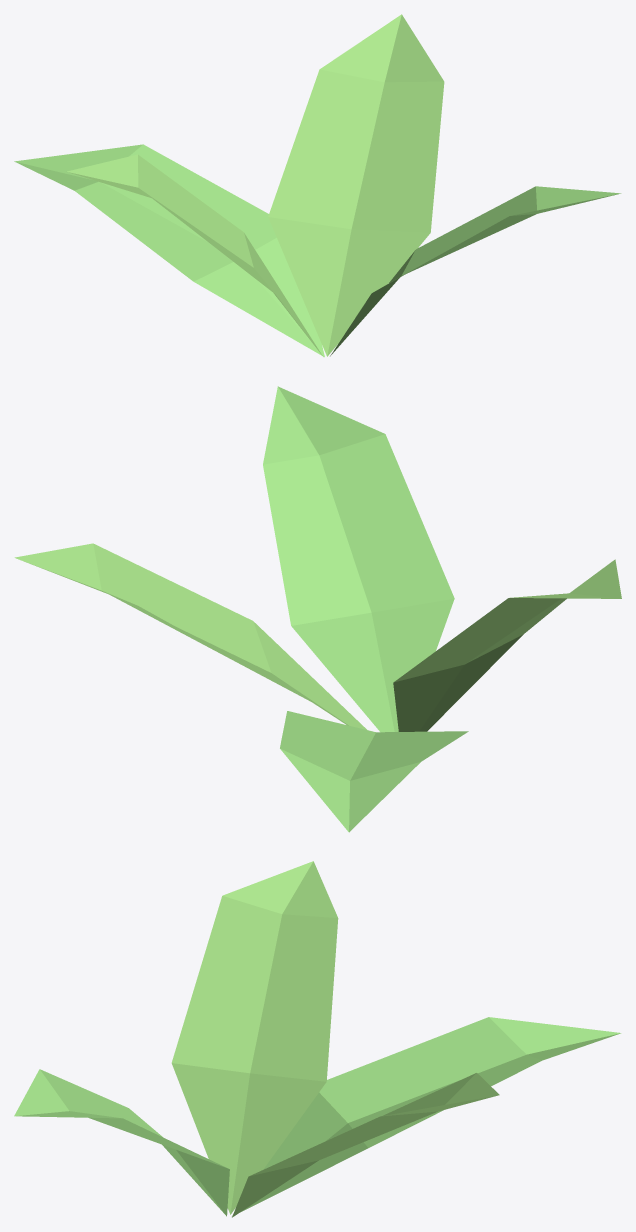
Rendered from Plant_k_OneS_04.fbx.
The picture shows the model from 3 angles, top to bottom: view 1: azimuth 30°, elevation 25°; view 2: azimuth 150°, elevation 25°; view 3: azimuth 270°, elevation 25°; orthographic projection. The views are drawn at different scales.
Parts seen in each view (by area): view 1: Plant_k_OneS_04; view 2: Plant_k_OneS_04; view 3: Plant_k_OneS_04.
Boxes of the visible parts, <box> form: Plant_k_OneS_04: <box>14,14,621,357</box>; Plant_k_OneS_04: <box>14,386,621,832</box>; Plant_k_OneS_04: <box>14,861,621,1217</box>.
Size of the model in its own units: 34.29 by 16.6 by 38.77.
